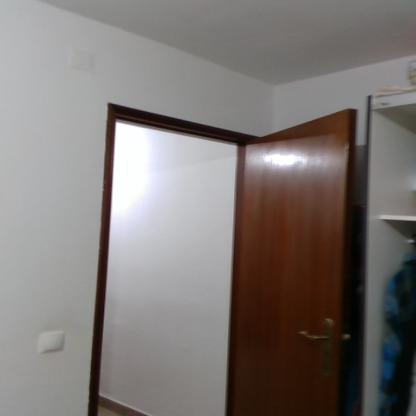open: (86, 82, 361, 416)
